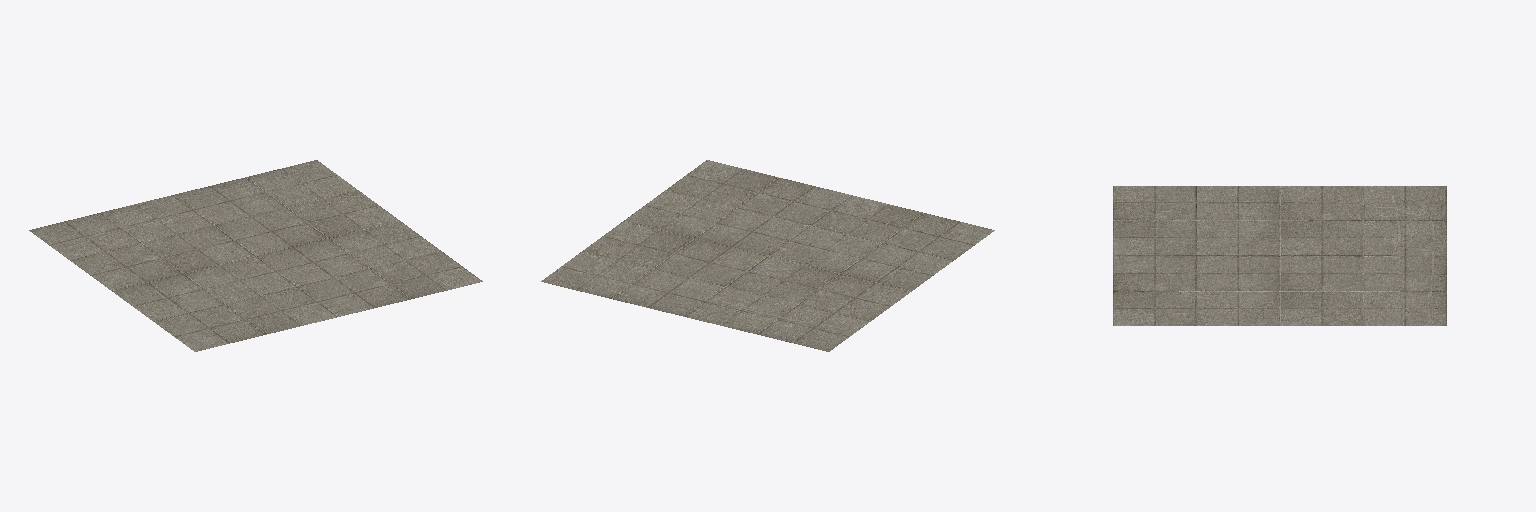
The picture shows the model from 3 angles: view 1: azimuth 30°, elevation 25°; view 2: azimuth 150°, elevation 25°; view 3: azimuth 270°, elevation 25°; orthographic projection.
Visible parts, largest first — view 1: mesh1.002_mesh1-geometry.001; view 2: mesh1.002_mesh1-geometry.001; view 3: mesh1.002_mesh1-geometry.001.
Part boxes in pixels (x1,y1,x2,y2): mesh1.002_mesh1-geometry.001: (29,160,482,351); mesh1.002_mesh1-geometry.001: (541,160,994,351); mesh1.002_mesh1-geometry.001: (1113,186,1446,325).
Size of the model in its own units: 25.4 by 0 by 25.4.
1 materials, 1 textured.